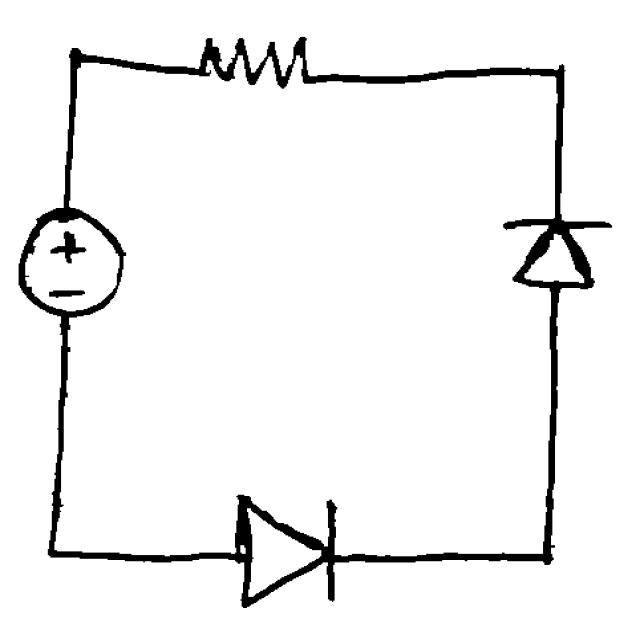dc: (11, 199, 130, 324)
diode: (224, 479, 352, 617), (488, 188, 619, 299)
resistor: (178, 28, 332, 108)
